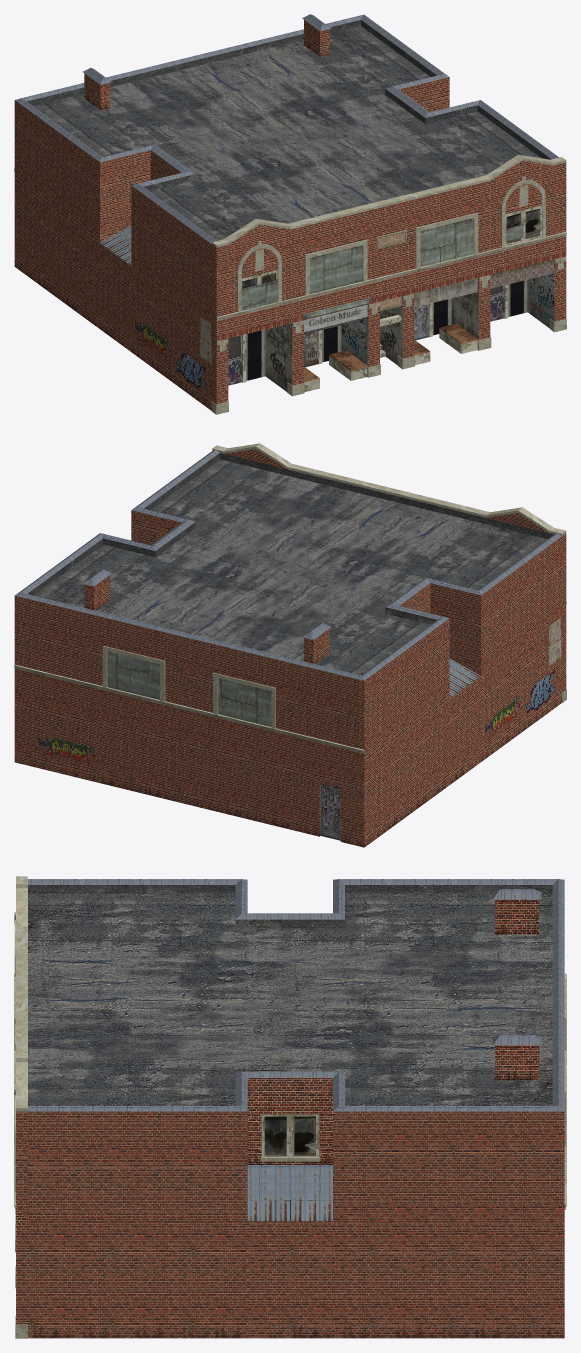
The model's file is derelictBrickHouse.FBX.
3 renders of one model, top to bottom at view 1: azimuth 30°, elevation 25°; view 2: azimuth 150°, elevation 25°; view 3: azimuth 270°, elevation 25°, orthographic. The views are drawn at different scales.
Visible parts, largest first — view 1: derelictBrickHouse; view 2: derelictBrickHouse; view 3: derelictBrickHouse.
Boxes of the visible parts, x1,y1,x2,y2 form: derelictBrickHouse: (14,14,566,414); derelictBrickHouse: (14,443,566,847); derelictBrickHouse: (14,876,566,1338).
Size of the model in its own units: 15.04 by 7.84 by 15.12.
